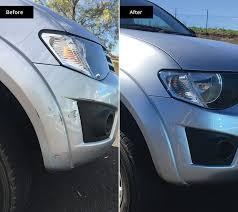scratch: (47, 101, 82, 166)
